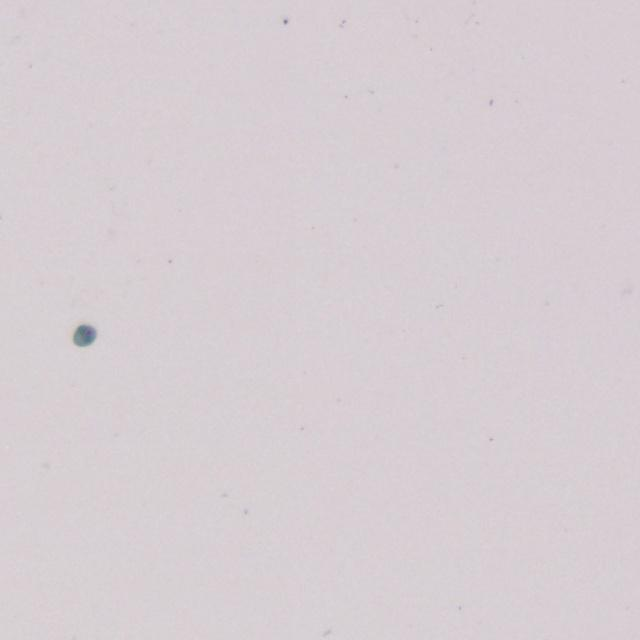non_viable: (73, 324, 96, 346)
